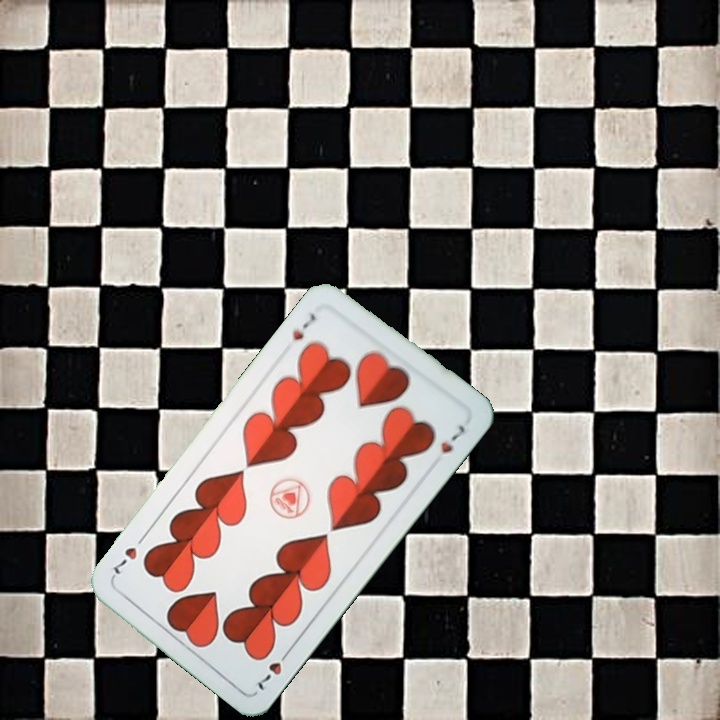H7: (253, 644, 294, 693), (288, 309, 319, 343)
